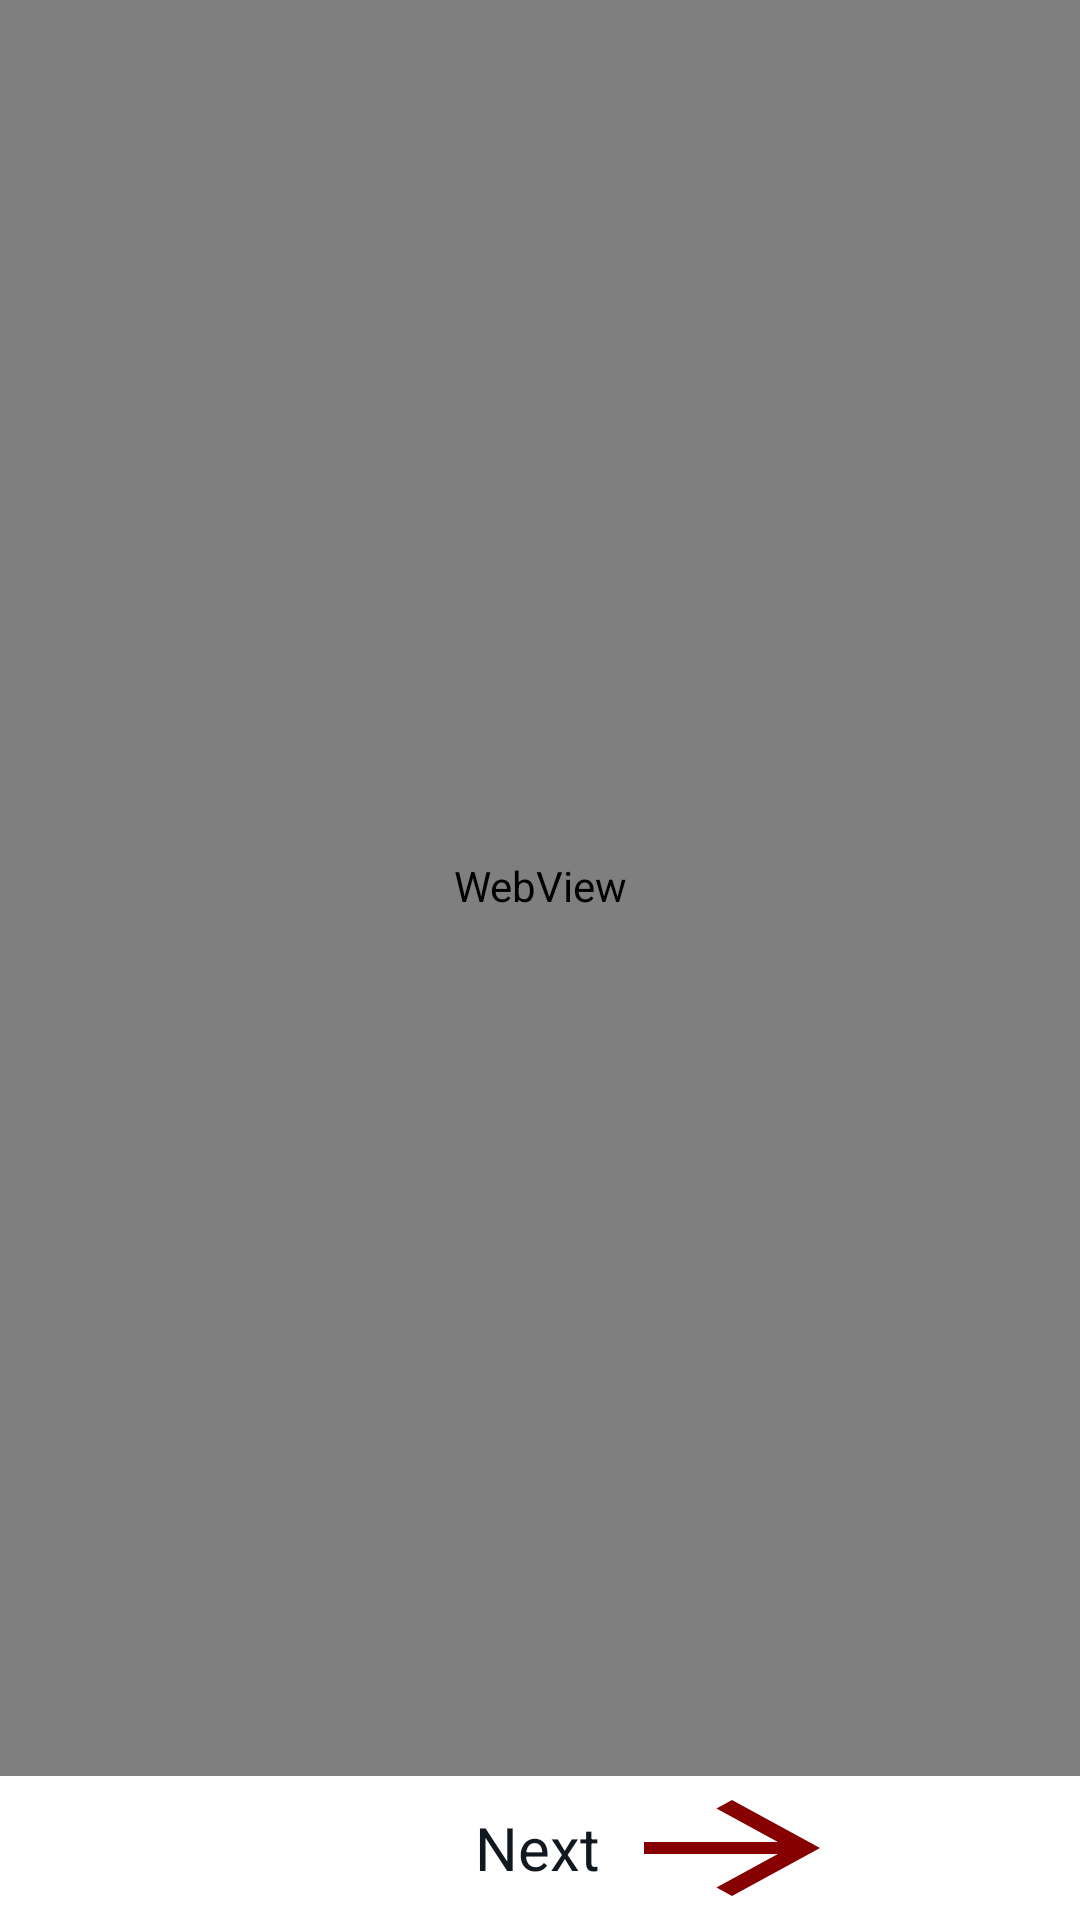

Screen size 1080 × 1920. Icon name, then its box in pixels as (x1=x1, y1=y1, x2=x2, y2=y2):
arrow forward: (x1=644, y1=1800, x2=820, y2=1896)
